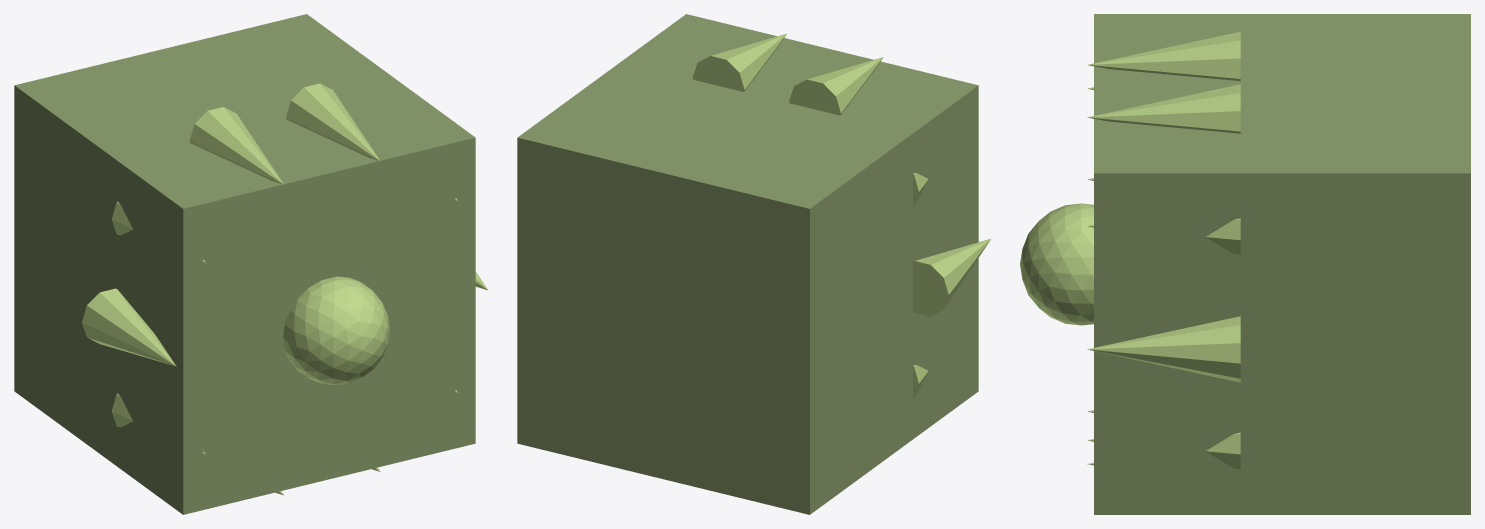
File: toxic_core.glb
The picture shows the model from 3 angles, left to right: view 1: azimuth 30°, elevation 25°; view 2: azimuth 150°, elevation 25°; view 3: azimuth 270°, elevation 25°; orthographic projection. The views are drawn at different scales.
Parts seen in each view (by area): view 1: world; view 2: world; view 3: world.
Boxes of the visible parts, x1,y1,x2,y2 form: world: (14, 14, 488, 514); world: (517, 14, 991, 514); world: (1020, 14, 1470, 514).
Bounding box in the file's own units: 1.68 × 1.6 × 1.62.
